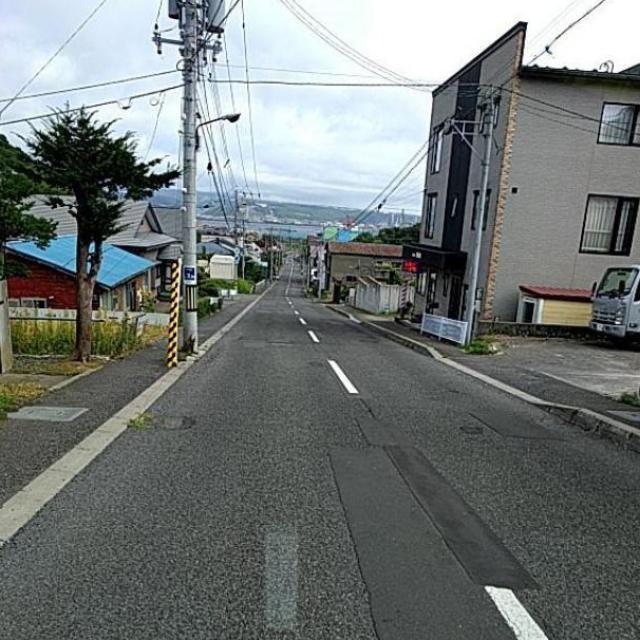Sambungan: (329, 445, 538, 640)
